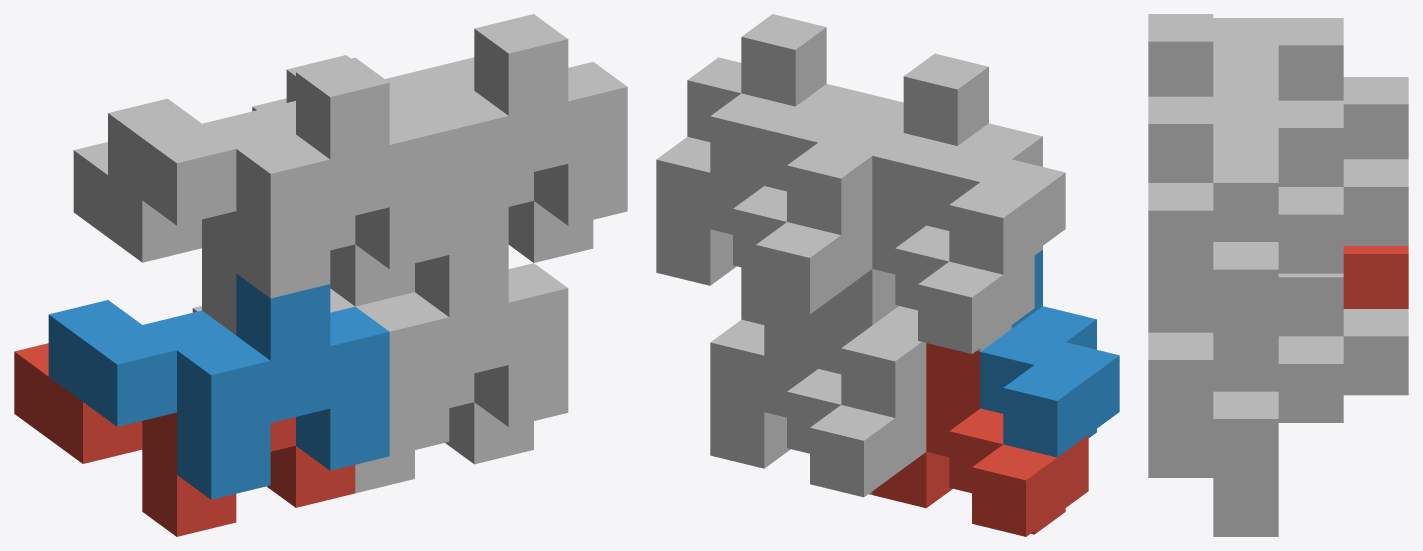
File: tiling.obj
3 renders of one model, left to right at view 1: azimuth 30°, elevation 25°; view 2: azimuth 150°, elevation 25°; view 3: azimuth 270°, elevation 25°, orthographic. The views are drawn at different scales.
Parts seen in each view (by area): view 1: copy_1_domain_4, copy_1_domain_2, copy_1_domain_8, copy_1_domain_6, copy_1_domain_1, copy_1_domain_3, copy_1_domain_5, copy_1_domain_7; view 2: copy_1_domain_7, copy_1_domain_5, copy_1_domain_4, copy_1_domain_8, copy_1_domain_3, copy_1_domain_1, copy_1_domain_2, copy_1_domain_6; view 3: copy_1_domain_7, copy_1_domain_8, copy_1_domain_5, copy_1_domain_4, copy_1_domain_6, copy_1_domain_3, copy_1_domain_1.
Boxes of the visible parts, x1,y1,x2,y2 form: copy_1_domain_4: (108, 57, 449, 298); copy_1_domain_2: (48, 273, 389, 499); copy_1_domain_8: (286, 14, 627, 254); copy_1_domain_6: (330, 240, 568, 455); copy_1_domain_1: (14, 343, 355, 536); copy_1_domain_3: (73, 101, 414, 335); copy_1_domain_5: (192, 306, 533, 493); copy_1_domain_7: (252, 57, 593, 262); copy_1_domain_7: (656, 93, 872, 314); copy_1_domain_5: (710, 303, 926, 497); copy_1_domain_4: (850, 53, 1065, 274); copy_1_domain_8: (687, 14, 902, 234); copy_1_domain_3: (818, 133, 1034, 353); copy_1_domain_1: (872, 343, 1088, 536); copy_1_domain_2: (980, 250, 1119, 457); copy_1_domain_6: (741, 267, 926, 417); copy_1_domain_7: (1213, 155, 1408, 387); copy_1_domain_8: (1148, 96, 1343, 328); copy_1_domain_5: (1213, 309, 1408, 536); copy_1_domain_4: (1148, 14, 1343, 100); copy_1_domain_6: (1148, 273, 1343, 477); copy_1_domain_3: (1213, 73, 1408, 159); copy_1_domain_1: (1343, 246, 1408, 308).
Size of the model in its own units: 8 by 7 by 4.
